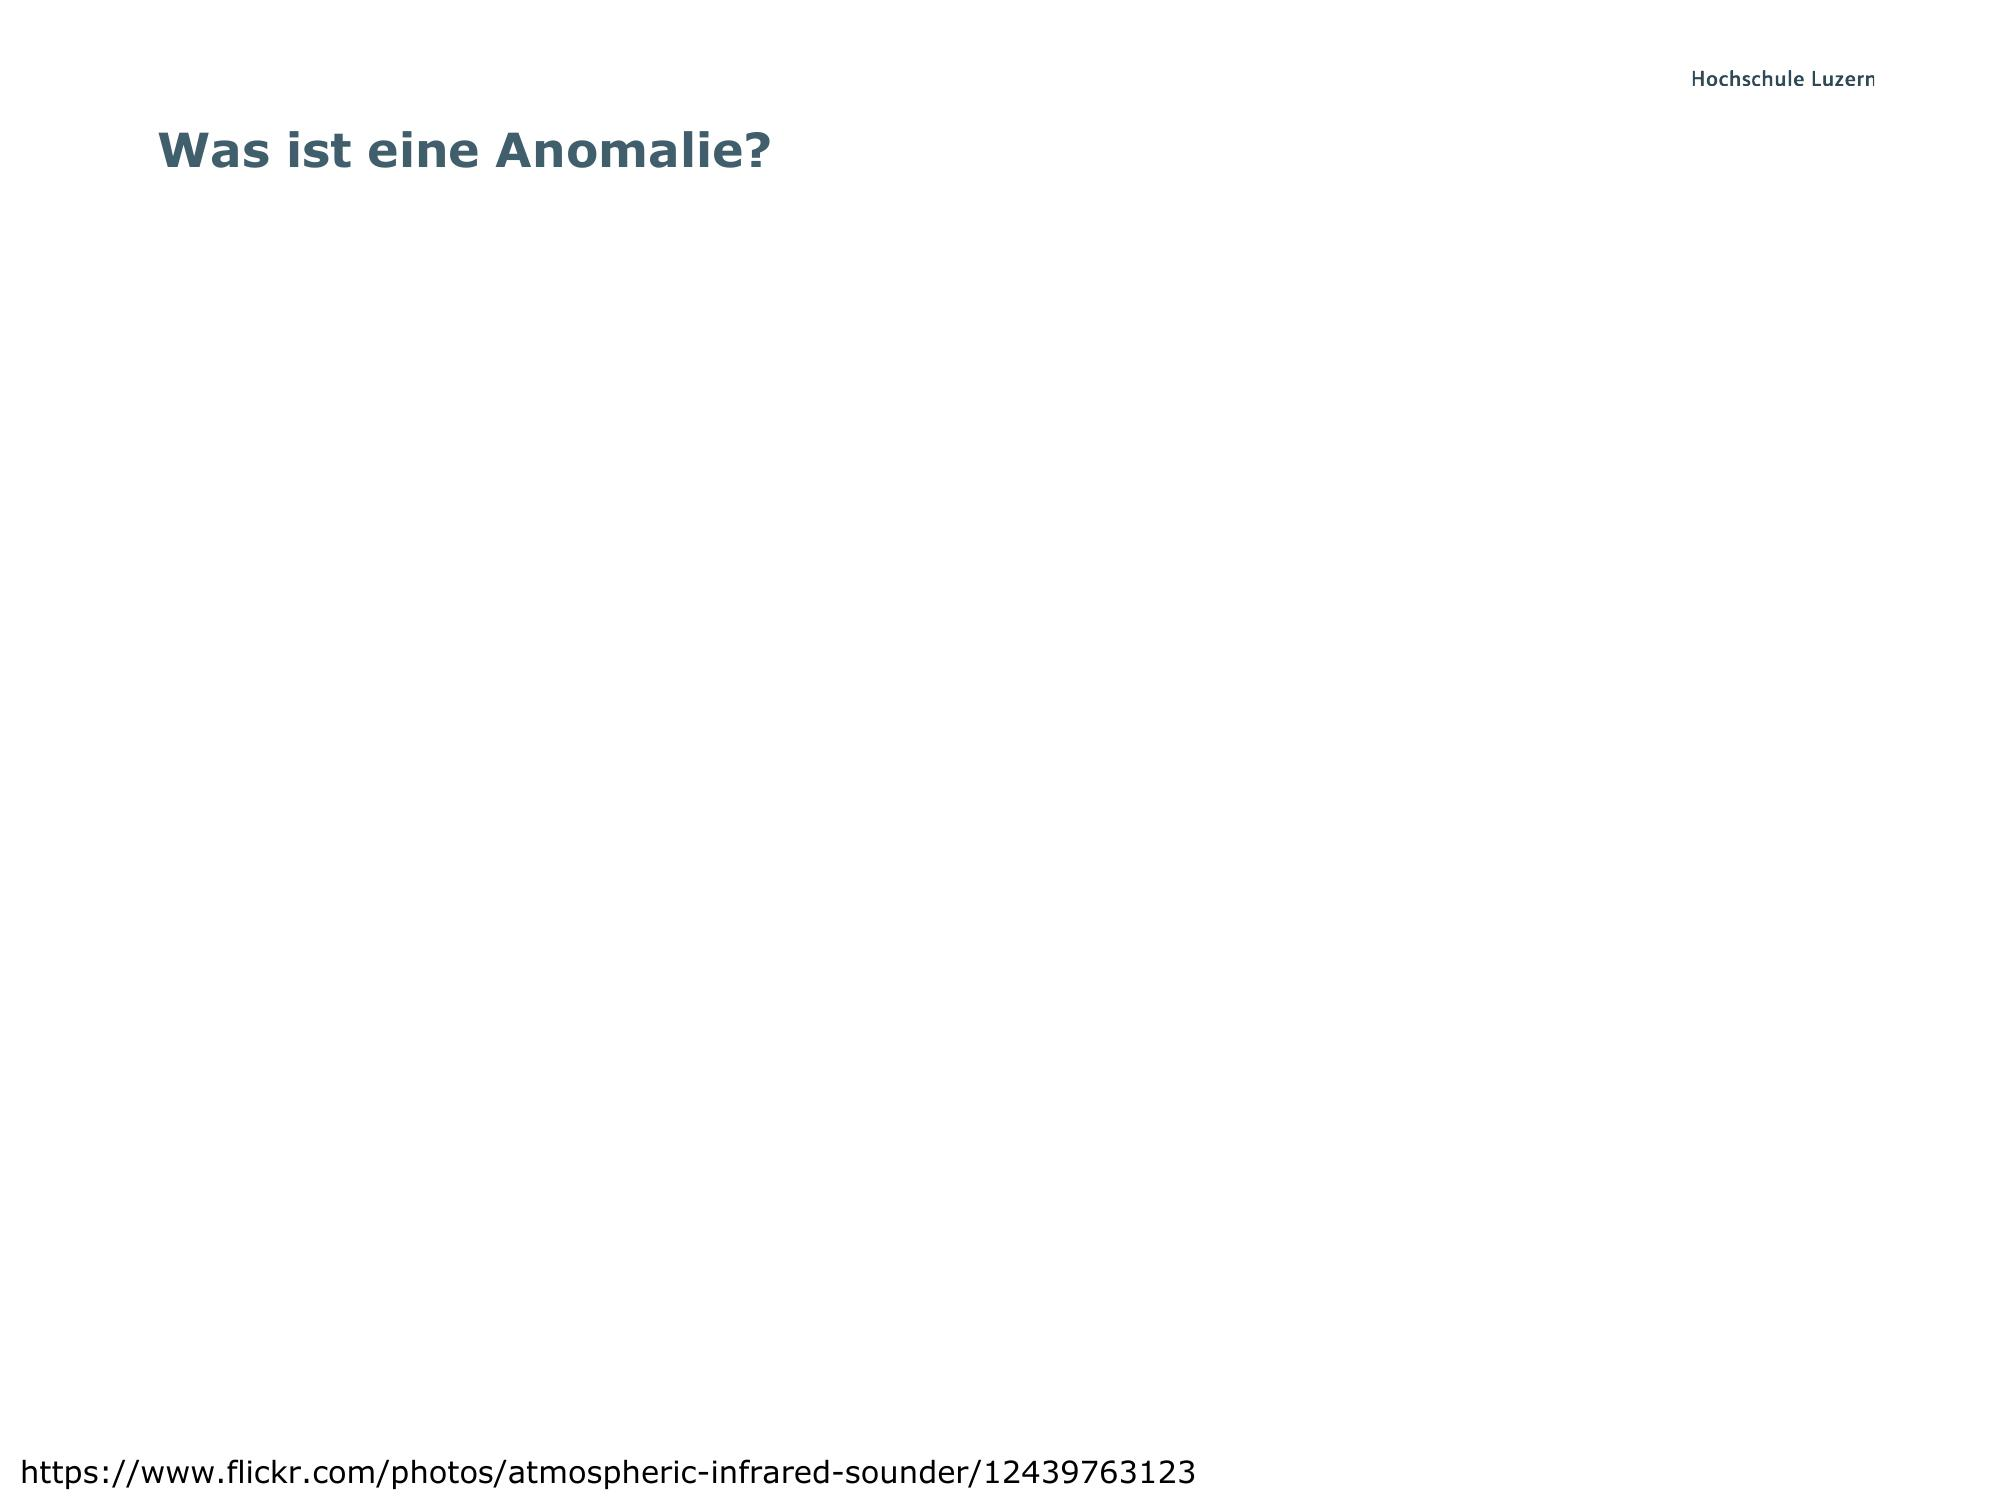Title: (146, 110, 773, 187)
